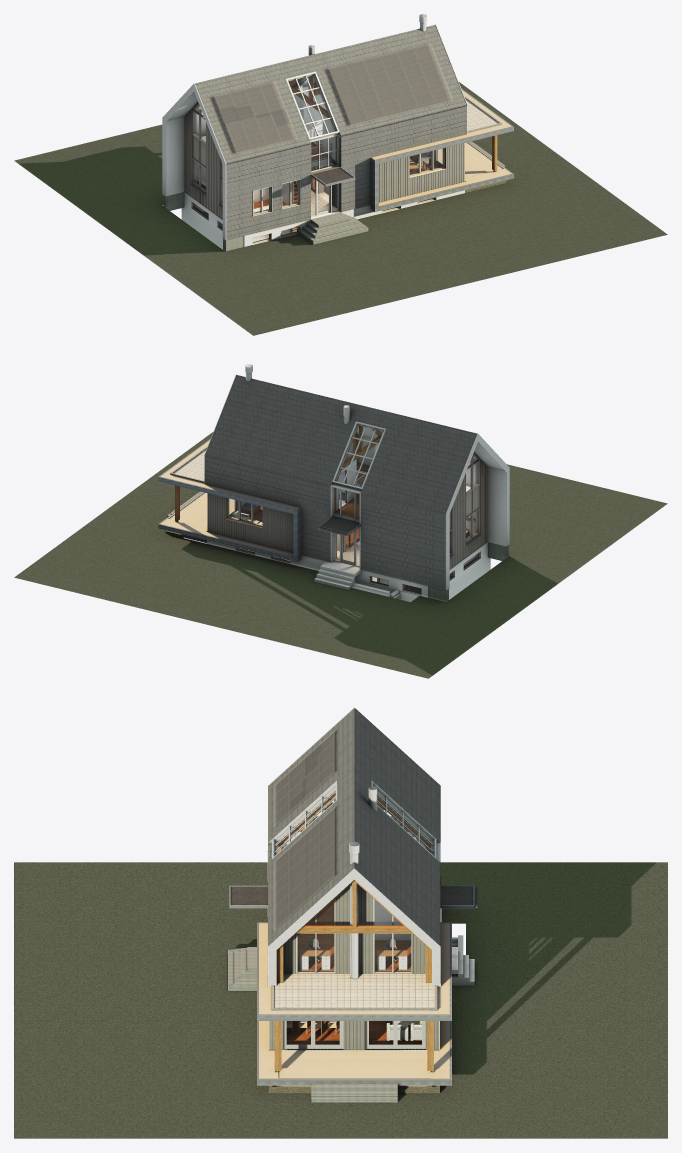
Rendered from nVilla.glb.
3 views of the same model, one above another, from view 1: azimuth 30°, elevation 25°; view 2: azimuth 150°, elevation 25°; view 3: azimuth 270°, elevation 25° (orthographic). The views are drawn at different scales.
Parts seen in each view (by area): view 1: Terrain_53, Roof_9, Solar Panels_18, Metal works_24, Planken - alg. donker_10, Beton - donker_2, Miscellaneous_39, Stucwerk - wit fijn_6, Painted materials_31, Hout - Vuren vert. nerf_3, Hout - Vuren hor. nerf_4, Beton - algemeen_1 (+3 smaller); view 2: Terrain_53, Roof_9, Metal works_24, Planken - alg. donker_10, Beton - donker_2, Miscellaneous_39, Stucwerk - wit fijn_6, Hout - Vuren vert. nerf_3, Beton - algemeen_1, Hout - Vuren hor. nerf_4, Painted materials_31, Wood works_19 (+2 smaller); view 3: Terrain_53, Roof_9, Hout - Vuren vert. nerf_3, Metal works_24, Solar Panels_18, Tegels - cremewit 300x300mm_7_Tegels - cremewit 300x300mm_7M, Miscellaneous_39, Planken - alg. donker_10, Beton - algemeen_1, Parket - strokenpatroon_8, Wood works_19, Painted materials_31 (+2 smaller).
Boxes of the visible parts, x1,y1,x2,y2 form: Terrain_53: [14, 82, 667, 335]; Roof_9: [195, 25, 466, 239]; Solar Panels_18: [213, 43, 452, 153]; Metal works_24: [184, 14, 513, 227]; Planken - alg. donker_10: [184, 102, 464, 219]; Beton - donker_2: [163, 190, 464, 251]; Miscellaneous_39: [162, 24, 501, 240]; Stucwerk - wit fijn_6: [166, 76, 337, 208]; Painted materials_31: [194, 71, 445, 225]; Hout - Vuren vert. nerf_3: [312, 90, 511, 205]; Hout - Vuren hor. nerf_4: [192, 103, 444, 244]; Beton - algemeen_1: [192, 141, 504, 244]; Terrain_53: [14, 432, 667, 678]; Roof_9: [205, 375, 476, 590]; Metal works_24: [158, 364, 487, 569]; Planken - alg. donker_10: [208, 452, 487, 569]; Beton - donker_2: [207, 540, 508, 601]; Miscellaneous_39: [170, 374, 509, 590]; Stucwerk - wit fijn_6: [347, 426, 505, 546]; Hout - Vuren vert. nerf_3: [161, 440, 359, 555]; Beton - algemeen_1: [167, 491, 480, 599]; Hout - Vuren hor. nerf_4: [227, 453, 479, 594]; Painted materials_31: [226, 422, 478, 592]; Wood works_19: [175, 425, 382, 531]; Terrain_53: [14, 862, 667, 1138]; Roof_9: [268, 708, 440, 945]; Hout - Vuren vert. nerf_3: [259, 905, 476, 1078]; Metal works_24: [229, 781, 474, 1085]; Solar Panels_18: [274, 730, 335, 930]; Tegels - cremewit 300x300mm_7_Tegels - cremewit 300x300mm_7M: [274, 973, 434, 1008]; Miscellaneous_39: [230, 707, 477, 1010]; Planken - alg. donker_10: [269, 885, 438, 1049]; Beton - algemeen_1: [228, 935, 474, 1102]; Parket - strokenpatroon_8: [286, 899, 421, 1044]; Wood works_19: [268, 792, 439, 1070]; Painted materials_31: [267, 781, 477, 1049].
Bounding box in the file's own units: 30.29 × 13.37 × 30.29.
23 materials, 23 textured.
